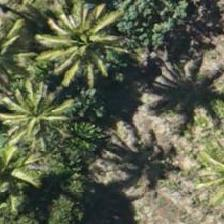coconut_tree: (0, 63, 77, 153), (22, 0, 112, 68)
